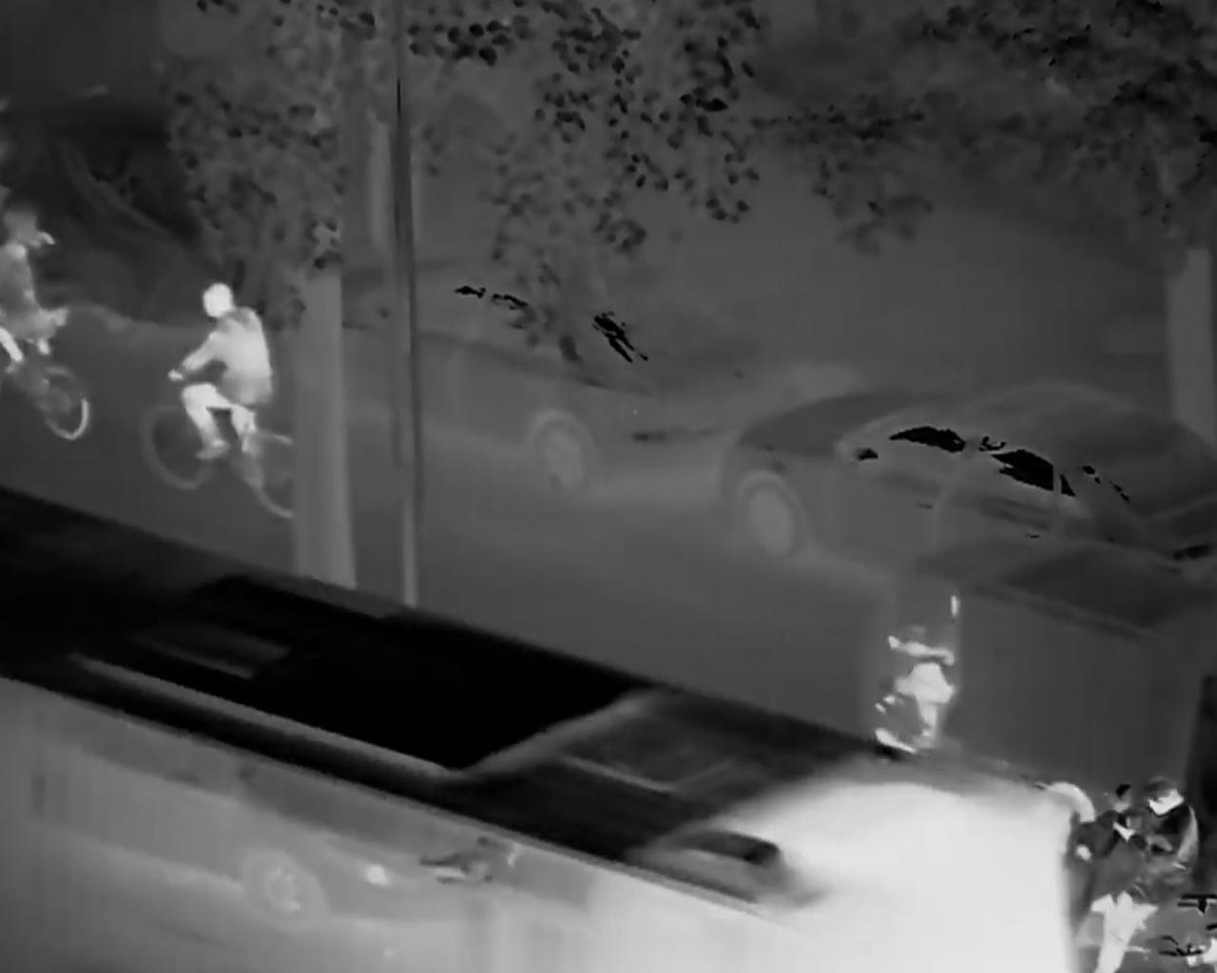person: (1063, 773, 1210, 952), (169, 276, 277, 506), (882, 582, 965, 748)
